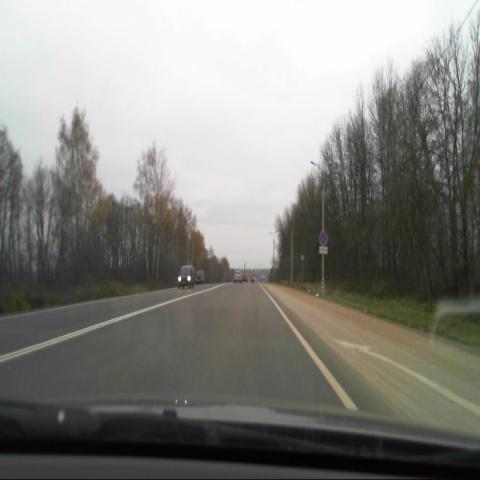3_27: (318, 229, 328, 246)
